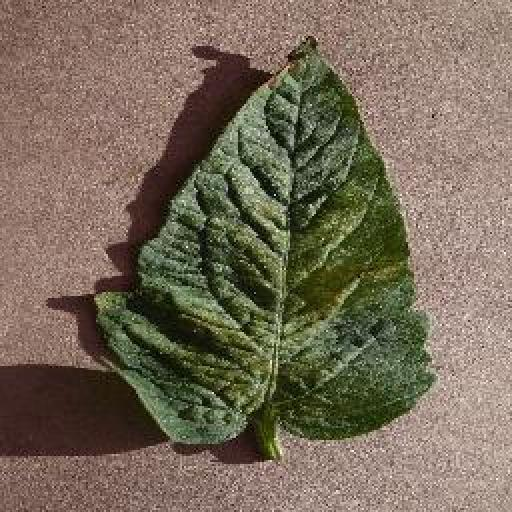disease_tomato: (94, 31, 434, 444)
